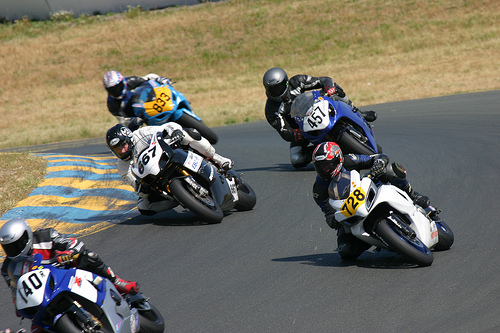helmet: (1, 216, 31, 256), (104, 125, 136, 158), (312, 143, 342, 172), (260, 68, 286, 94), (99, 73, 124, 95)
